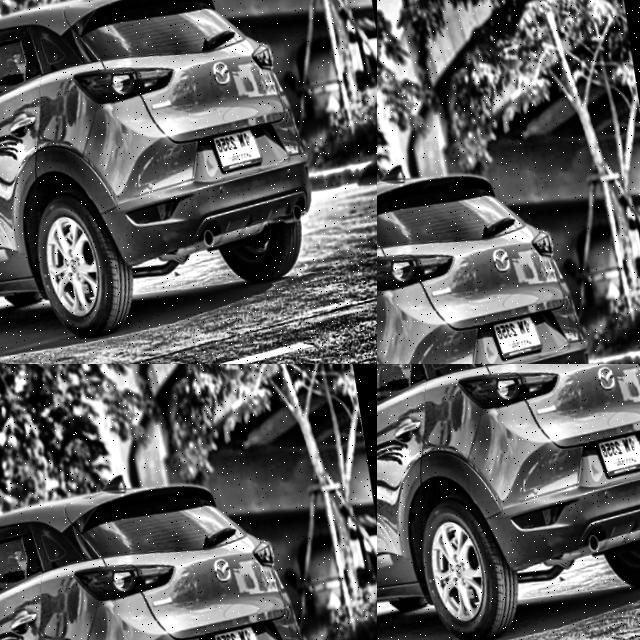license-plate: (0, 364, 270, 543), (596, 425, 640, 472)
